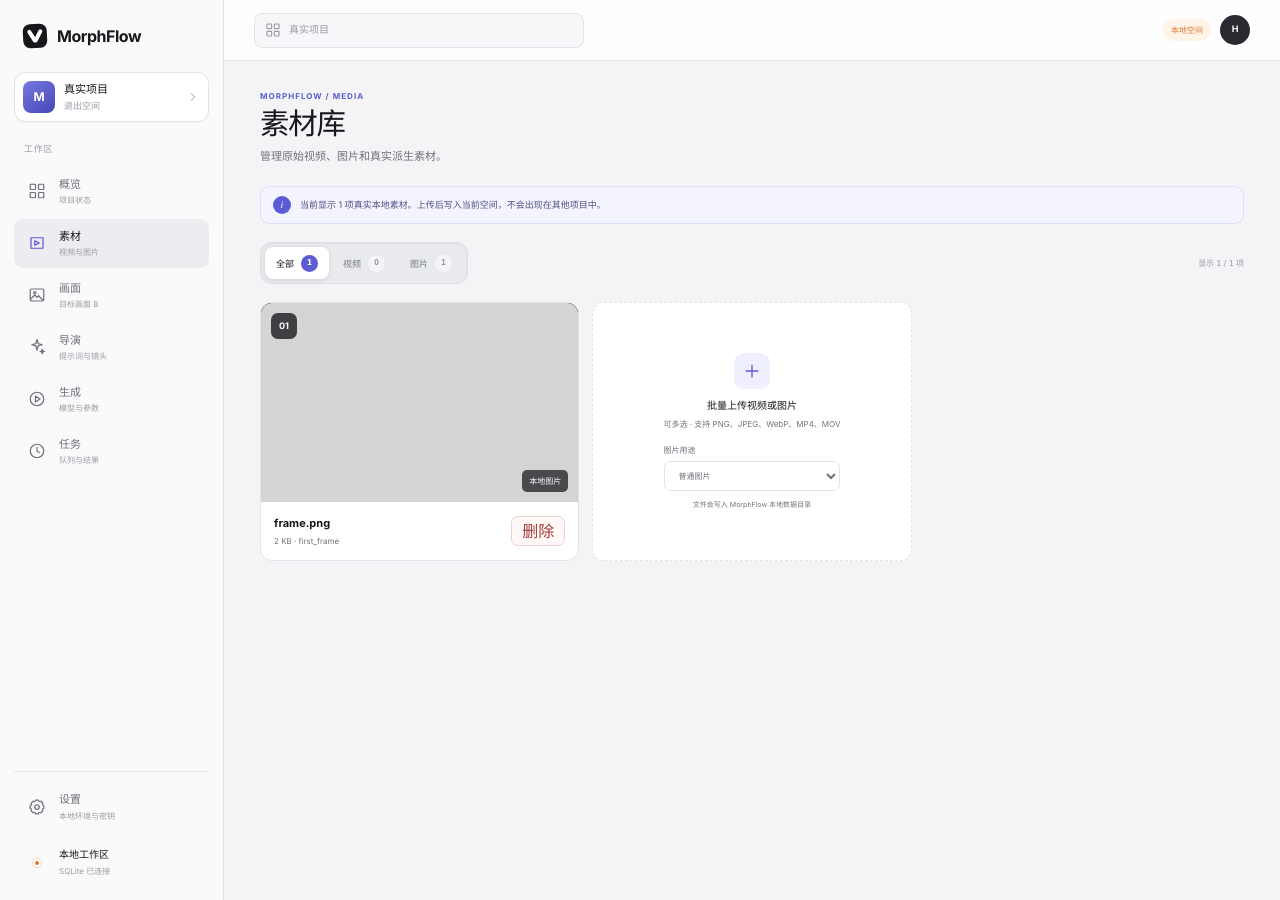
Scenario: studio pages › filters the real media library with accessible segmented controls
Click the button "视频 0". click: (364, 263)
box: [332, 247, 396, 279]
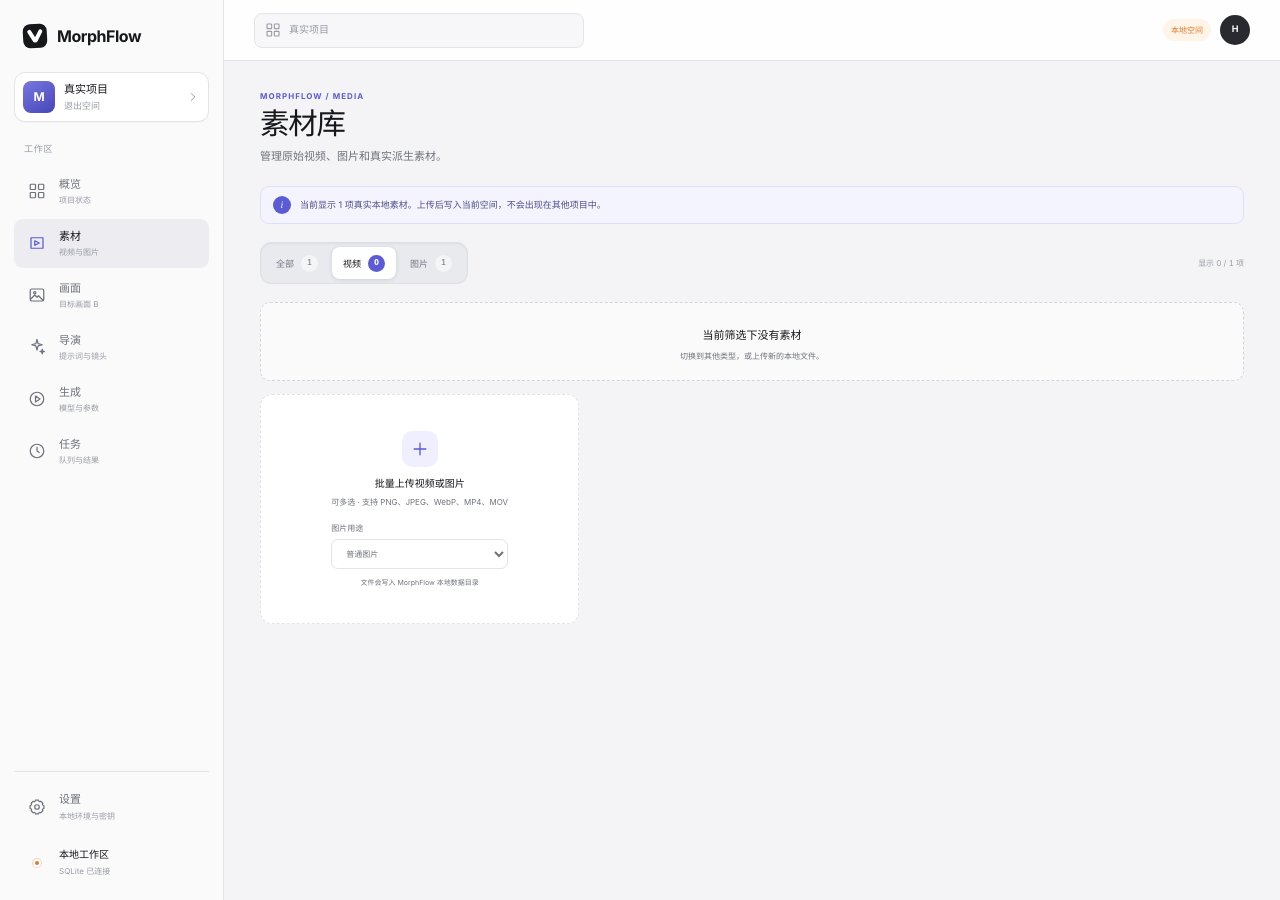
Result: the heading "frame.png" is gone
Result: the text "当前筛选下没有素材" is shown at [702, 328, 802, 342]
Click the button "图片 1". click: (431, 263)
box: [399, 247, 463, 279]
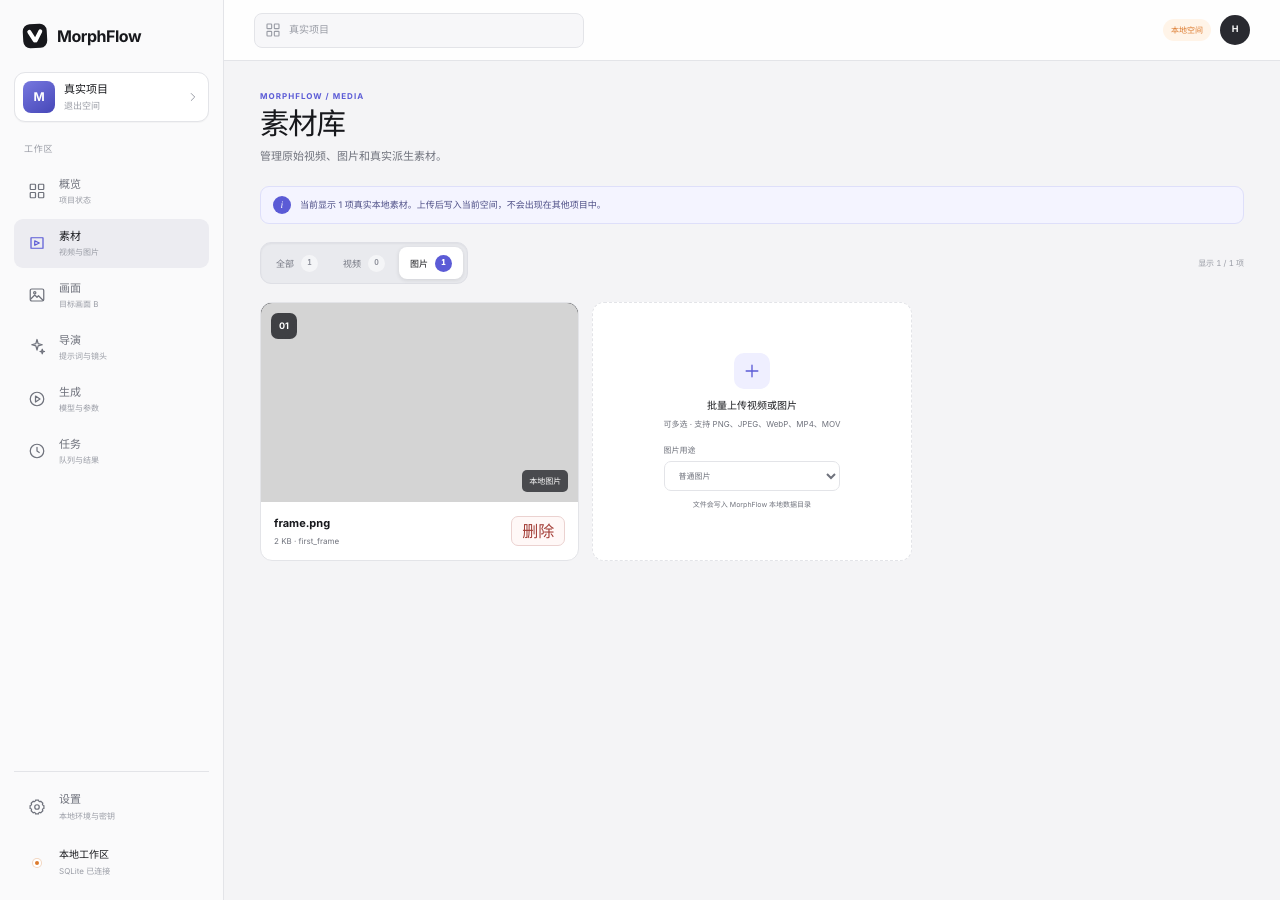
Result: the heading "frame.png" is shown at [274, 515, 339, 531]
